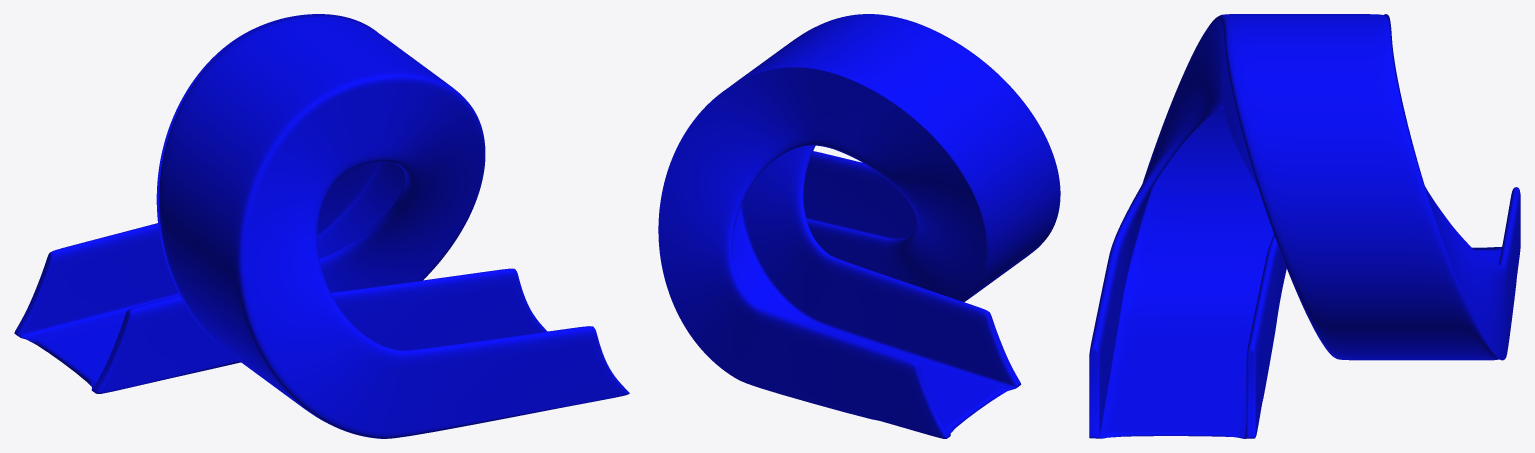
File: Ramp.fbx
The picture shows the model from 3 angles, left to right: view 1: azimuth 30°, elevation 25°; view 2: azimuth 150°, elevation 25°; view 3: azimuth 270°, elevation 25°; orthographic projection. The views are drawn at different scales.
Parts seen in each view (by area): view 1: BezierCircle.001; view 2: BezierCircle.001; view 3: BezierCircle.001.
Boxes of the visible parts, x1,y1,x2,y2 form: BezierCircle.001: (14,14,629,438); BezierCircle.001: (658,14,1060,438); BezierCircle.001: (1089,14,1520,438).
Bounding box in the file's own units: 813 × 607 × 759.
